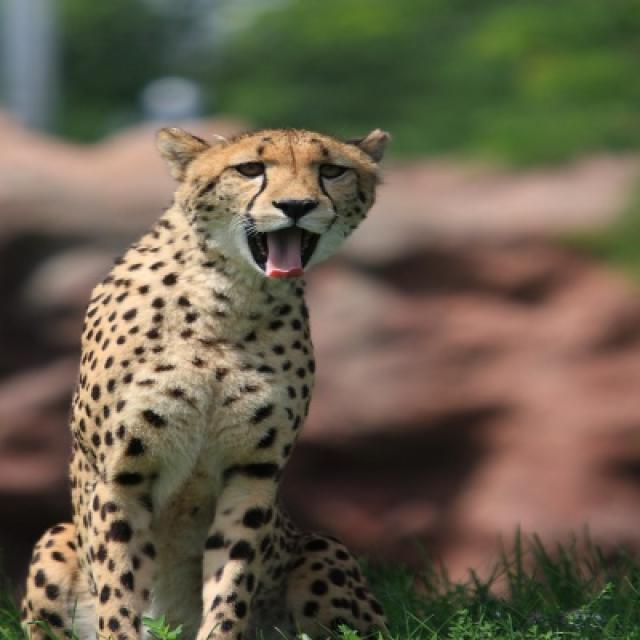Cheetah: (23, 119, 395, 638)
